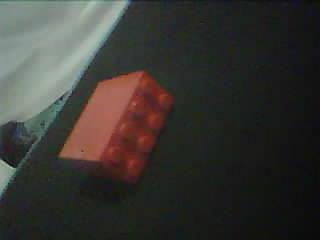lego: (58, 69, 175, 186)
